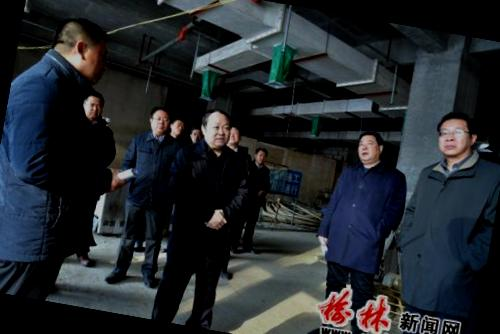no_helmet: (44, 12, 116, 88), (427, 106, 482, 162), (197, 102, 238, 152), (353, 126, 388, 168), (76, 87, 110, 126), (146, 100, 175, 138), (249, 142, 273, 170), (224, 120, 246, 150), (167, 114, 190, 142), (186, 122, 204, 149)
